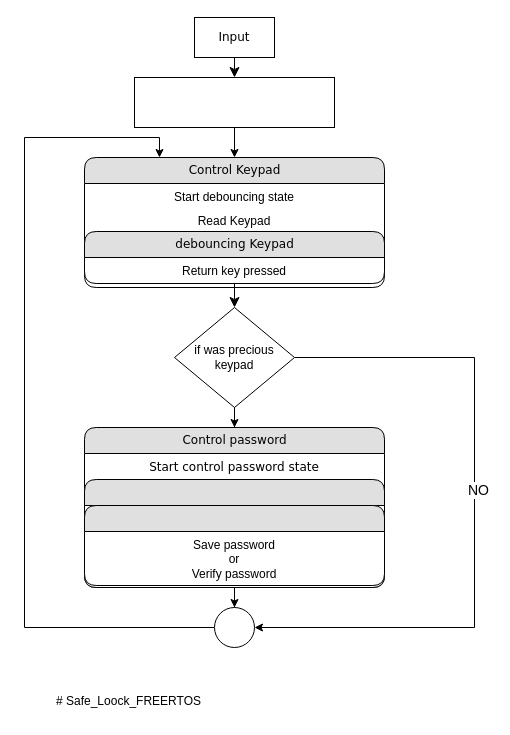
Some shapes in this 510 by 735 pixel diagram are drawn without their labels. The box of each missing label's shape, as (x1, y1, x2, y2) in pixels:
Control new password: (84, 504, 384, 586)
Start gpio values Default password Start control new password: (134, 76, 334, 128)
Store password: (84, 478, 384, 588)
